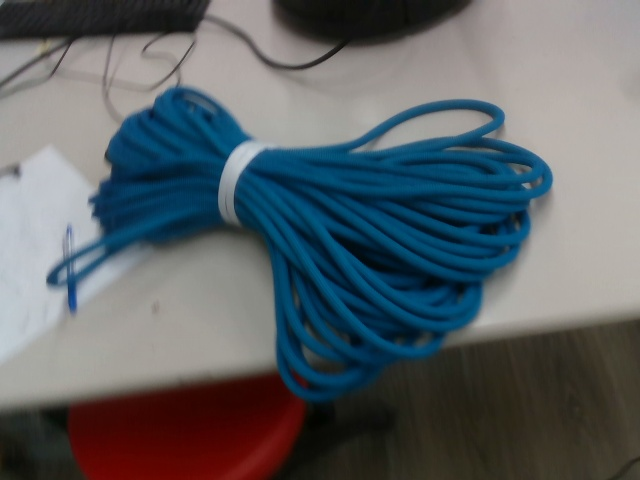rope: (41, 83, 557, 405)
